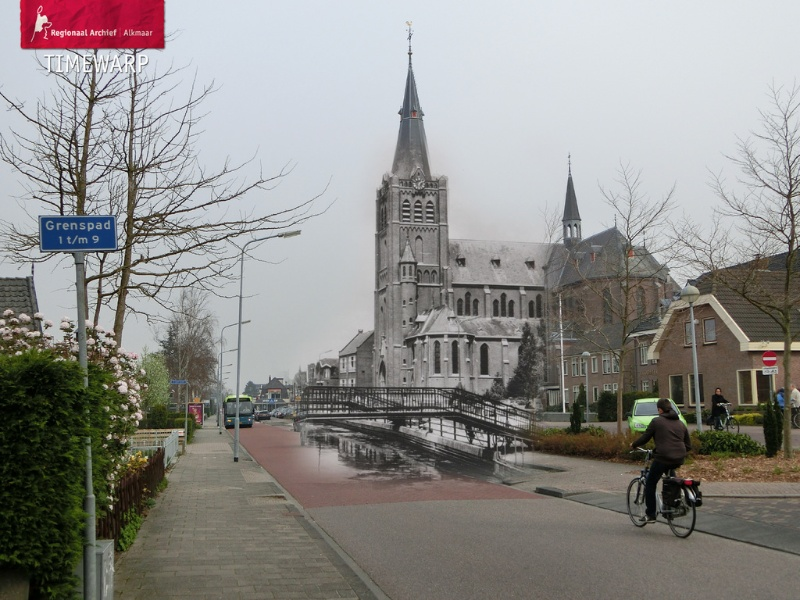no_entry: (759, 350, 780, 364)
